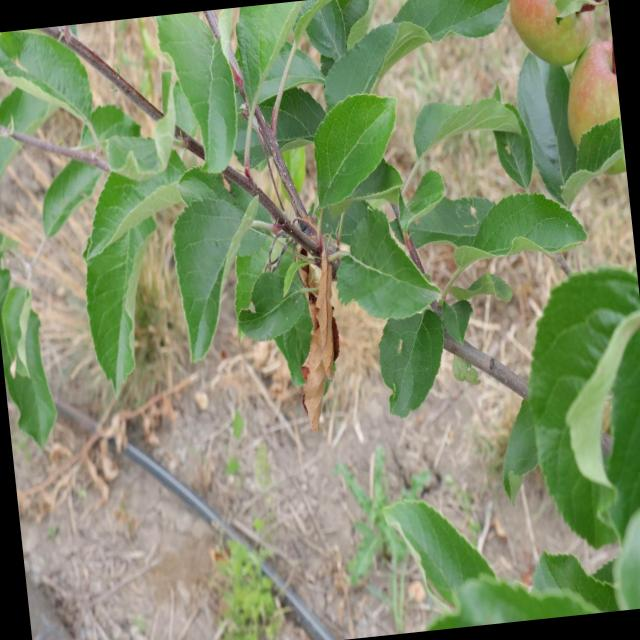-FireBlight-: (271, 217, 355, 421)
